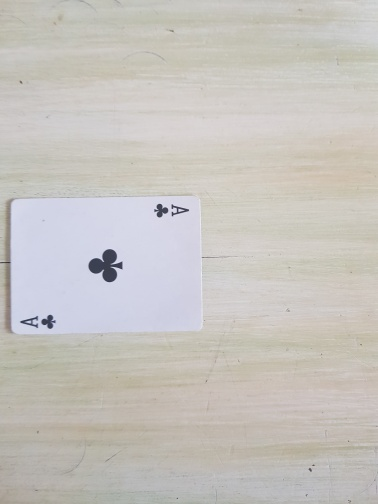ace: (9, 194, 204, 336)
